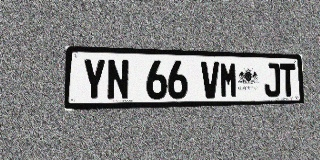6: (146, 60, 167, 99), (168, 60, 188, 99)
J: (264, 63, 280, 97)
M: (220, 62, 238, 98)
N: (107, 59, 129, 100)
T: (280, 63, 296, 97)
V: (201, 61, 220, 98)
Y: (82, 58, 106, 101)
